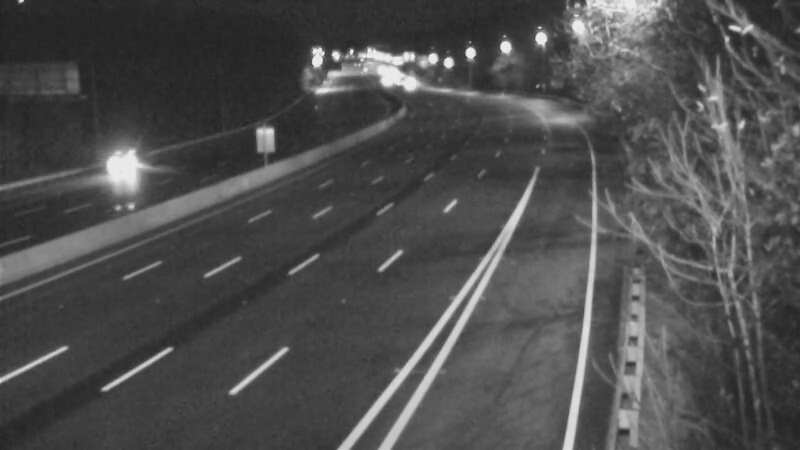vehicle: (74, 132, 154, 212), (381, 60, 431, 110)
